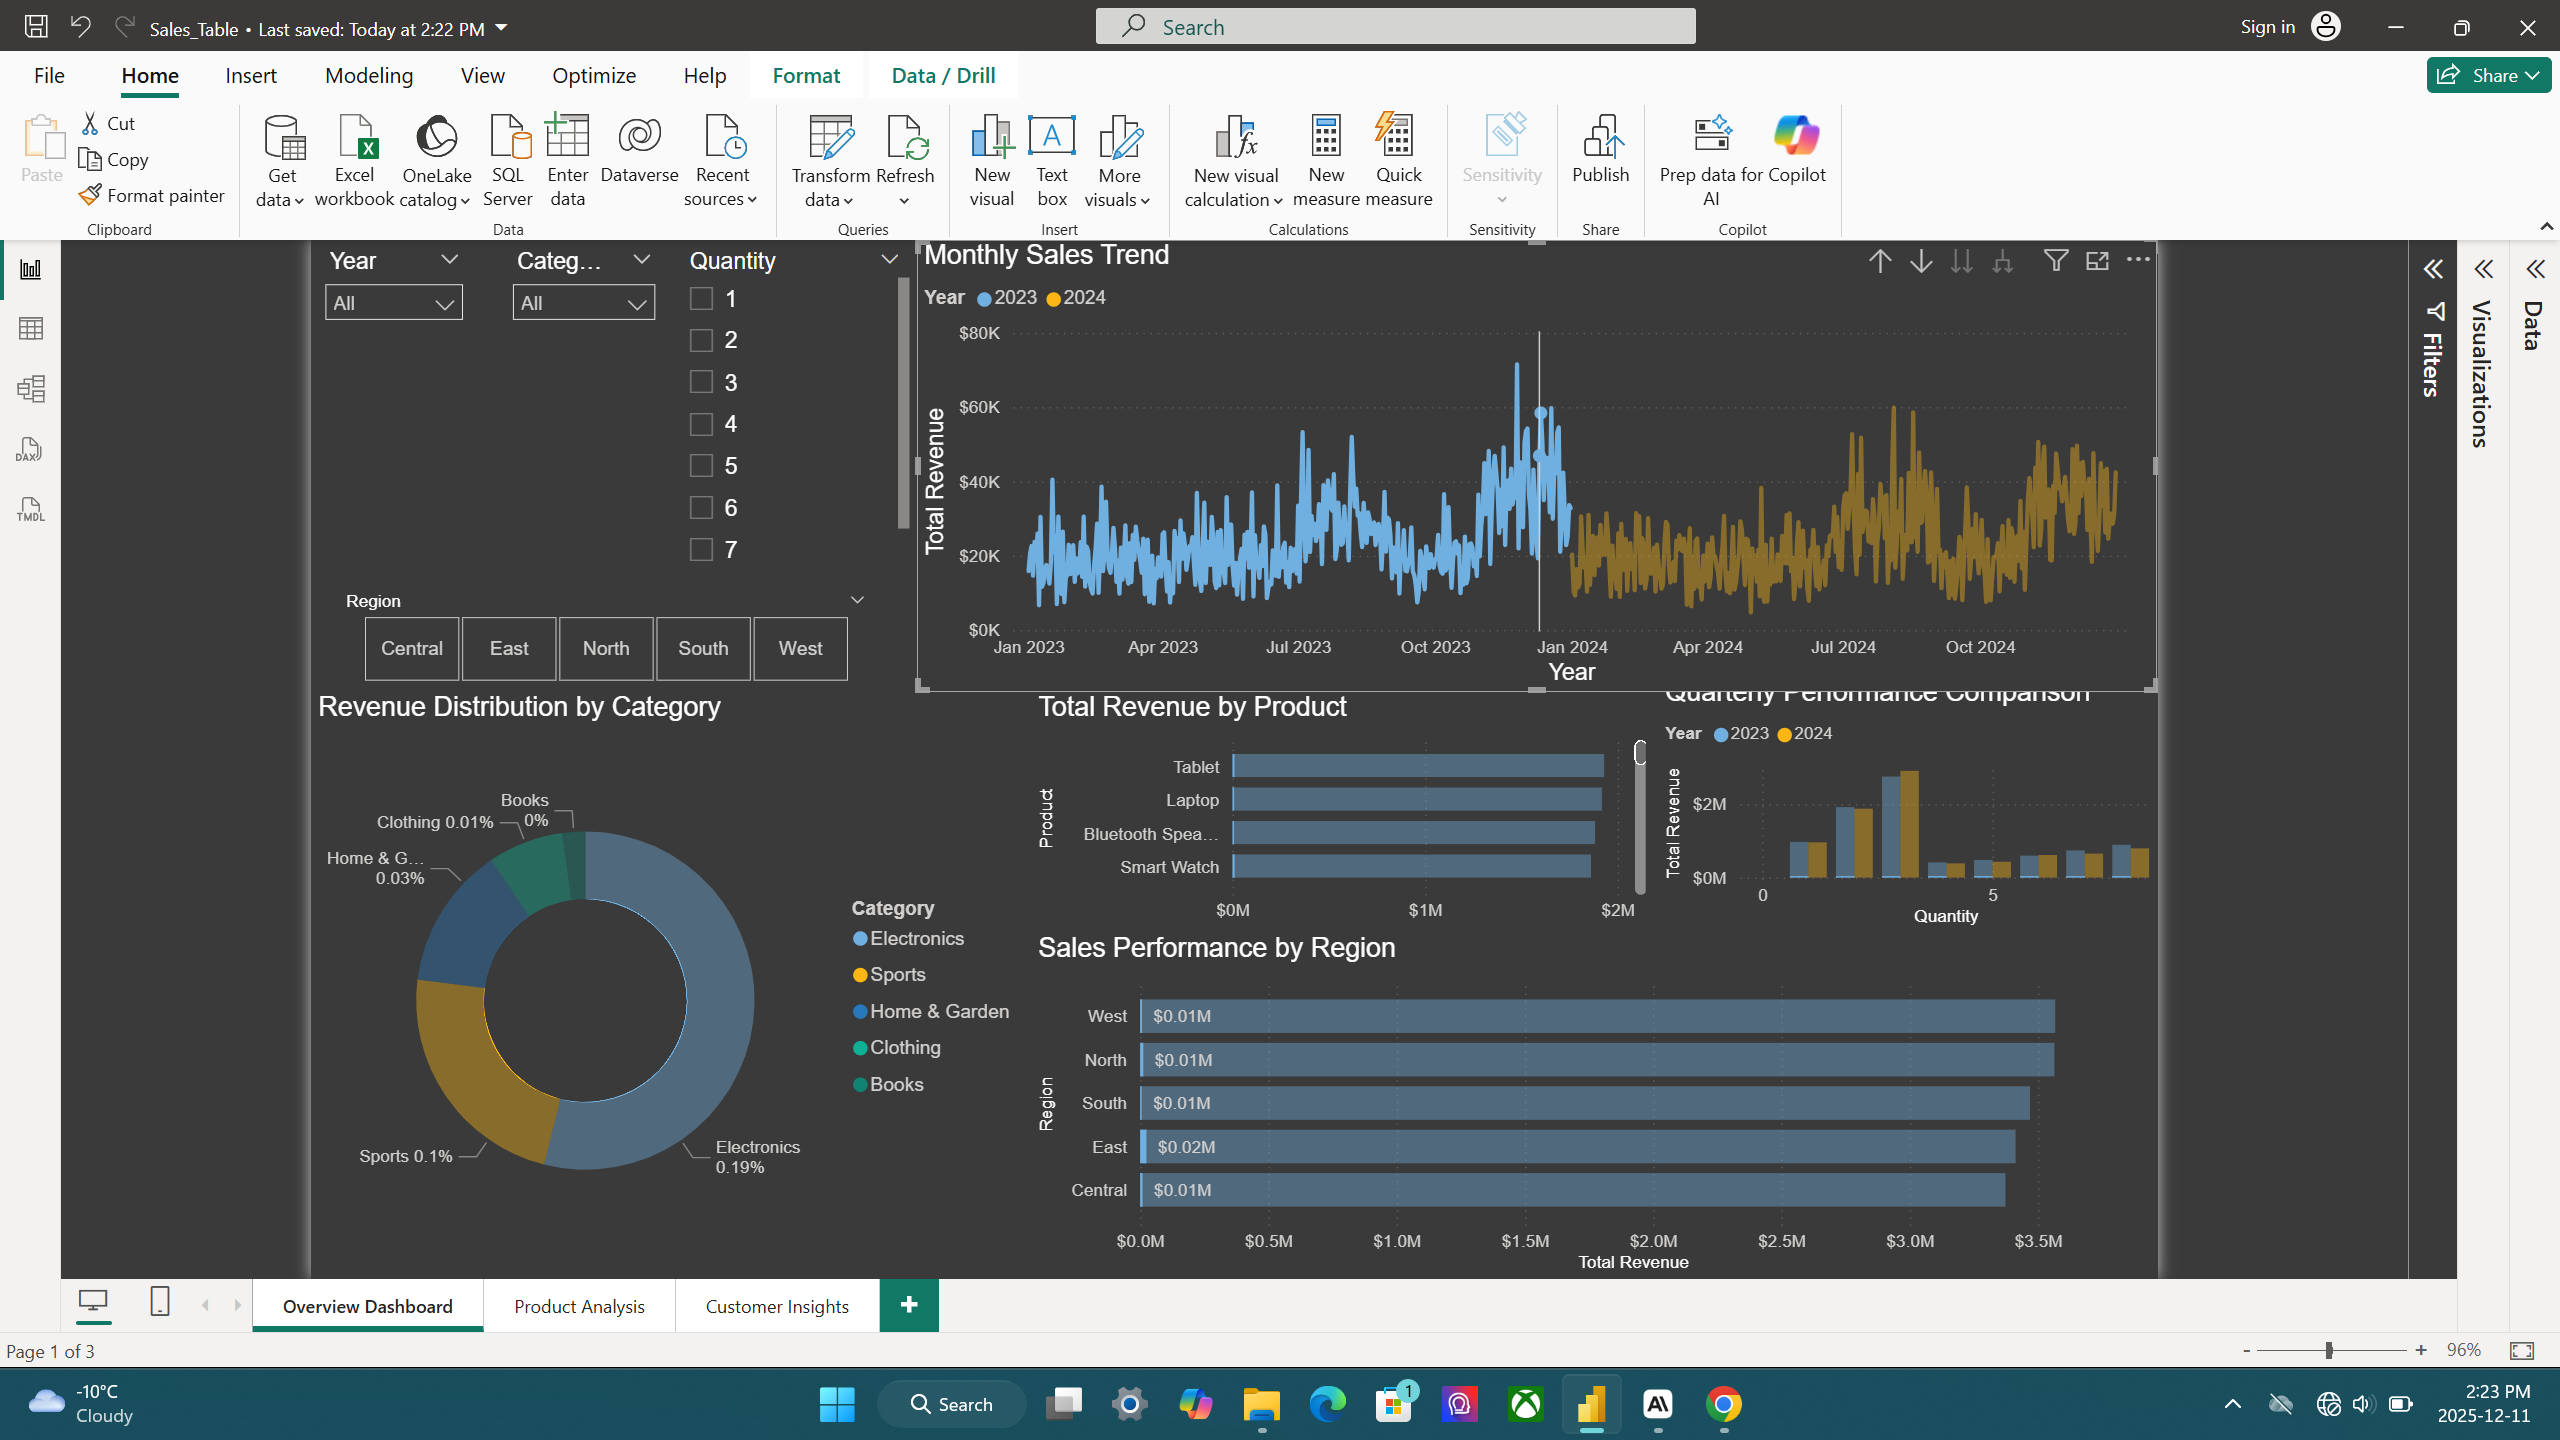

What the dashboard file says about the page in this screenshot:
{"tool":"powerbi","page":{"name":"Overview Dashboard","canvas":[1280,720],"ordinal":0},"visuals":[{"type":"lineChart","title":"Monthly Sales Trend","fields":{"Category":["Sales_Table.Date.Variation.Date Hierarchy.Year","Sales_Table.Date.Variation.Date Hierarchy.Quarter","Sales_Table.Date.Variation.Date Hierarchy.Month","Sales_Table.Date.Variation.Date Hierarchy.Day"],"Y":["Sales_Table.Total Revenue"],"Series":["Sales_Table.Year"]},"box":[419.6,0,860.4,312.9],"z":0},{"type":"donutChart","title":"Revenue Distribution by Category","fields":{"Y":["Sales_Table.Total Revenue"],"Category":["Sales_Table.Category"]},"box":[0,312.8,498.7,407],"z":1000},{"type":"clusteredBarChart","title":"Sales Performance by Region","fields":{"Y":["Sales_Table.Total Revenue"],"Category":["Sales_Table.Region"]},"box":[498.7,480.3,781.3,239.5],"z":2000},{"type":"clusteredBarChart","fields":{"Category":["Sales_Table.Product"],"Y":["Sales_Table.Total Revenue"]},"box":[498.7,312.8,431.2,167.5],"z":3000},{"type":"clusteredColumnChart","title":"Quarterly Performance Comparison","fields":{"Y":["Sales_Table.Total Revenue"],"Category":["Sales_Table.Quantity"],"Series":["Sales_Table.Year"]},"box":[933.2,303,346.8,177.3],"z":4000},{"type":"slicer","fields":{"Values":["Sales_Table.Year"]},"box":[0,0,115.3,179.2],"z":5000},{"type":"slicer","fields":{"Values":["Sales_Table.Category"]},"box":[130.4,0,118.6,231.9],"z":6000},{"type":"slicer","fields":{"Values":["Sales_Table.Quantity"]},"box":[249,0,170.6,231.9],"z":7000},{"type":"slicer","fields":{"Values":["Sales_Table.Region"]},"box":[11.2,238.5,384.7,74.4],"z":8000},{"type":"textbox","box":[614.3,0,569.6,57.2],"z":8001}]}

Visuals, with their boxes on the page's 1280x720 design canvas (x1, y1, x2, y2). These are canvas units, not pixel positions in the 2560x1440 screenshot, which may show the page scaled, cropped or inside an application window:
"Monthly Sales Trend" lineChart: (420, 0, 1280, 313)
"Revenue Distribution by Category" donutChart: (0, 313, 499, 720)
"Sales Performance by Region" clusteredBarChart: (499, 480, 1280, 720)
clusteredBarChart - Sales_Table.Product x Sales_Table.Total Revenue: (499, 313, 930, 480)
"Quarterly Performance Comparison" clusteredColumnChart: (933, 303, 1280, 480)
slicer - Sales_Table.Year: (0, 0, 115, 179)
slicer - Sales_Table.Category: (130, 0, 249, 232)
slicer - Sales_Table.Quantity: (249, 0, 420, 232)
slicer - Sales_Table.Region: (11, 238, 396, 313)
textbox: (614, 0, 1184, 57)
